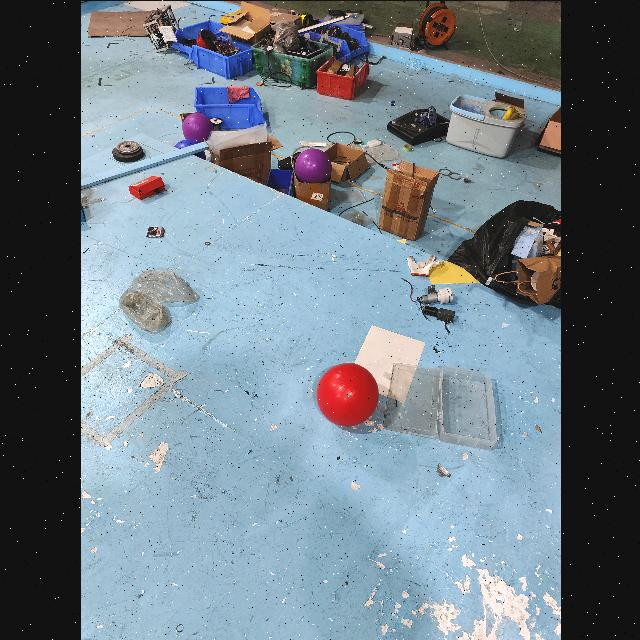P: (294, 146, 330, 184), (181, 110, 211, 142)
R: (314, 360, 380, 428)
